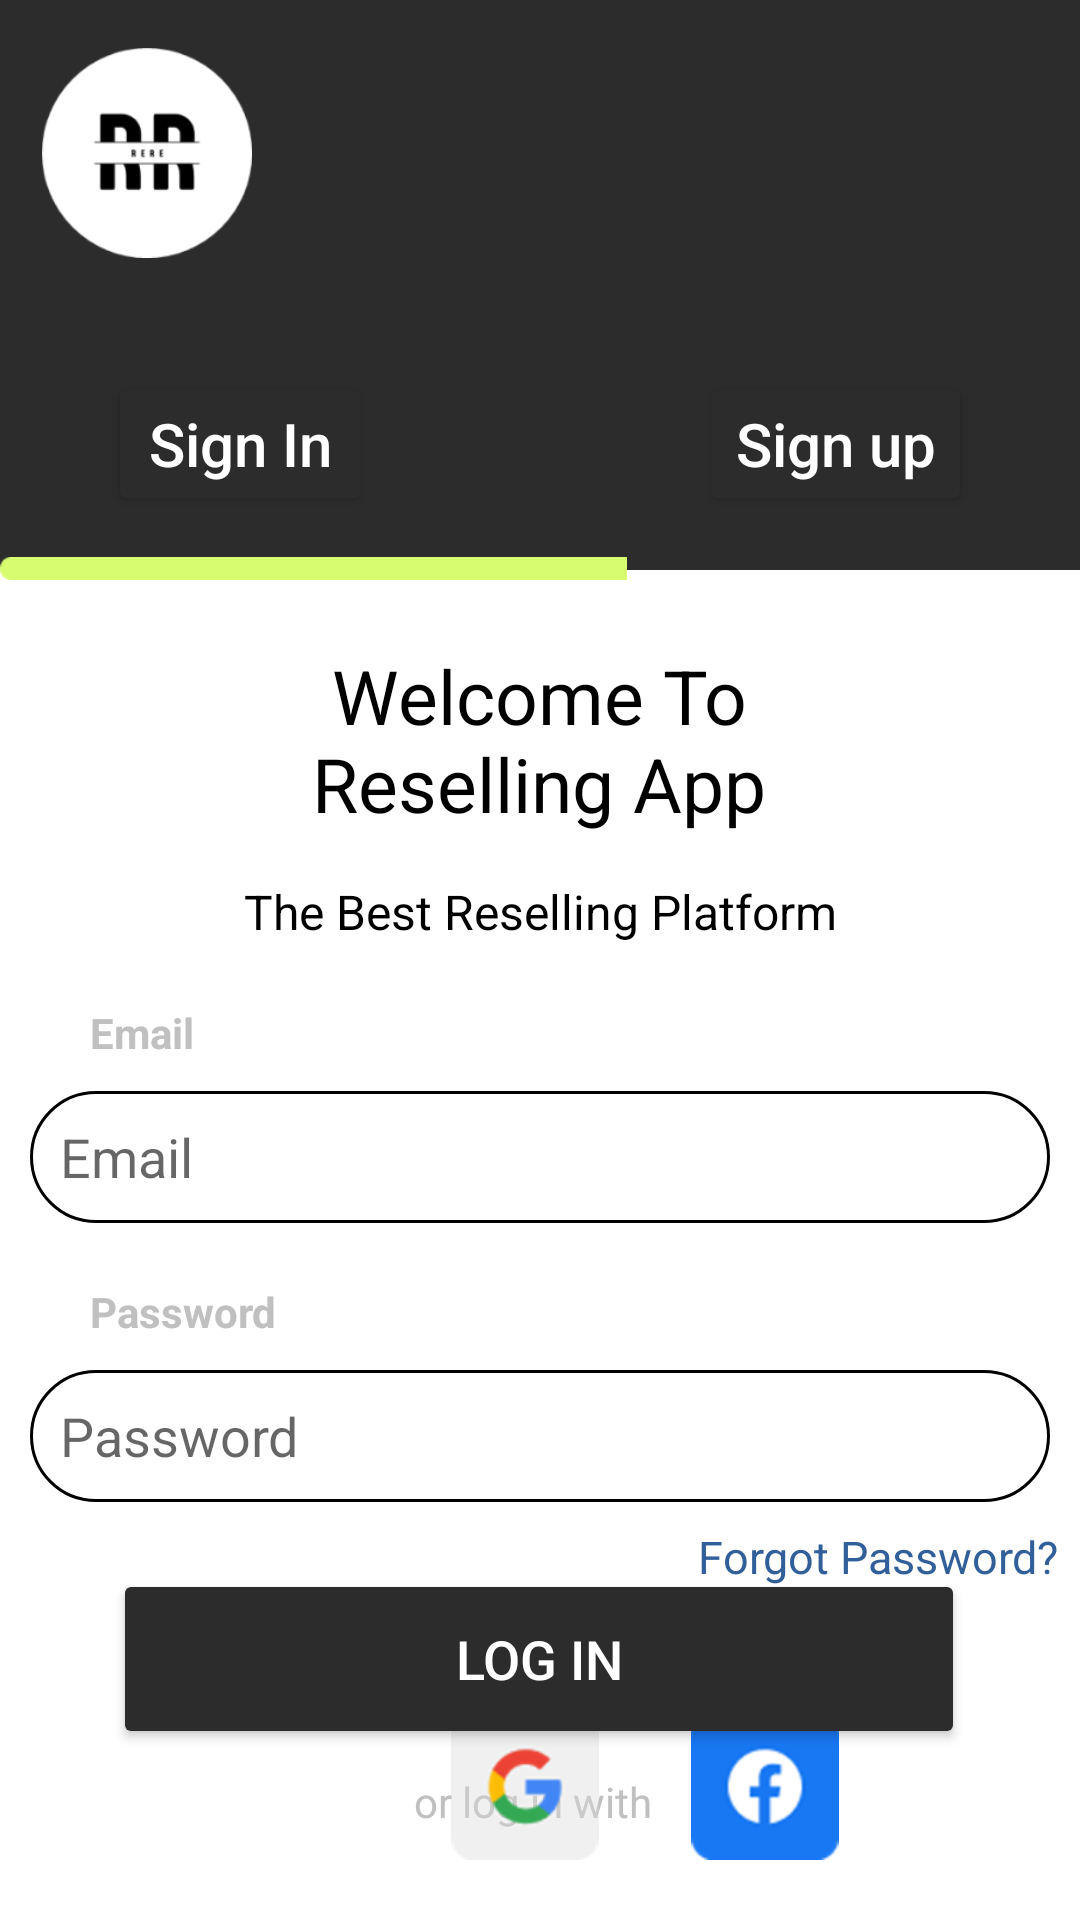

Point at icon controls on the screen. Image size 1080*1920, points as point (x, y).
mainicon: point (147, 153)
